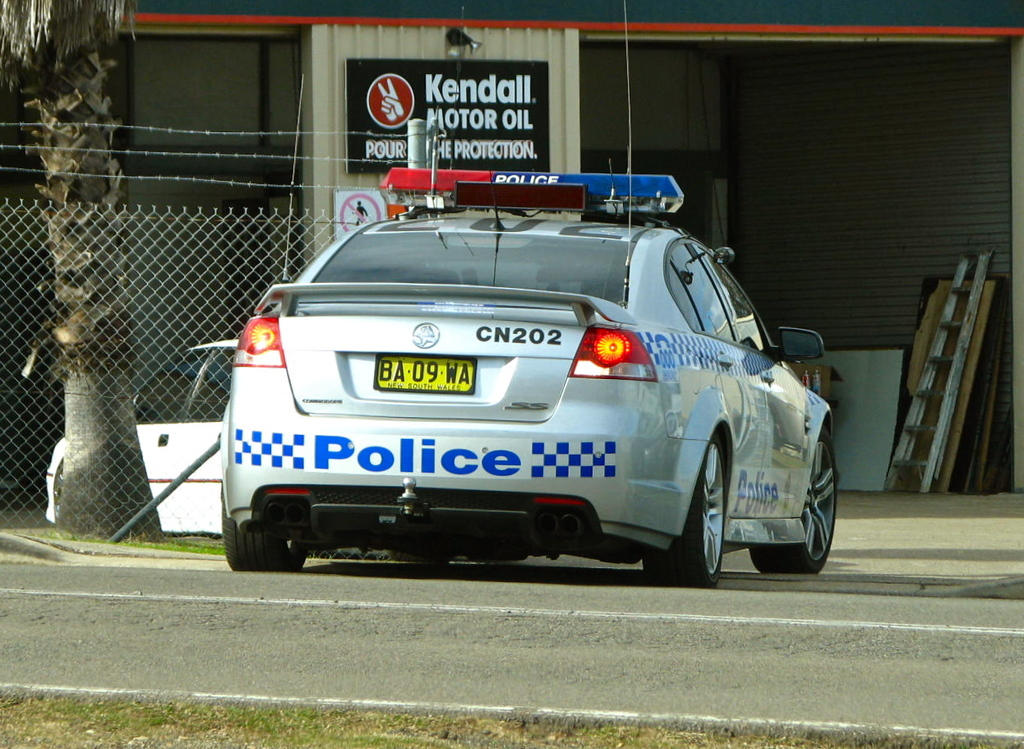Car: (194, 165, 827, 592)
